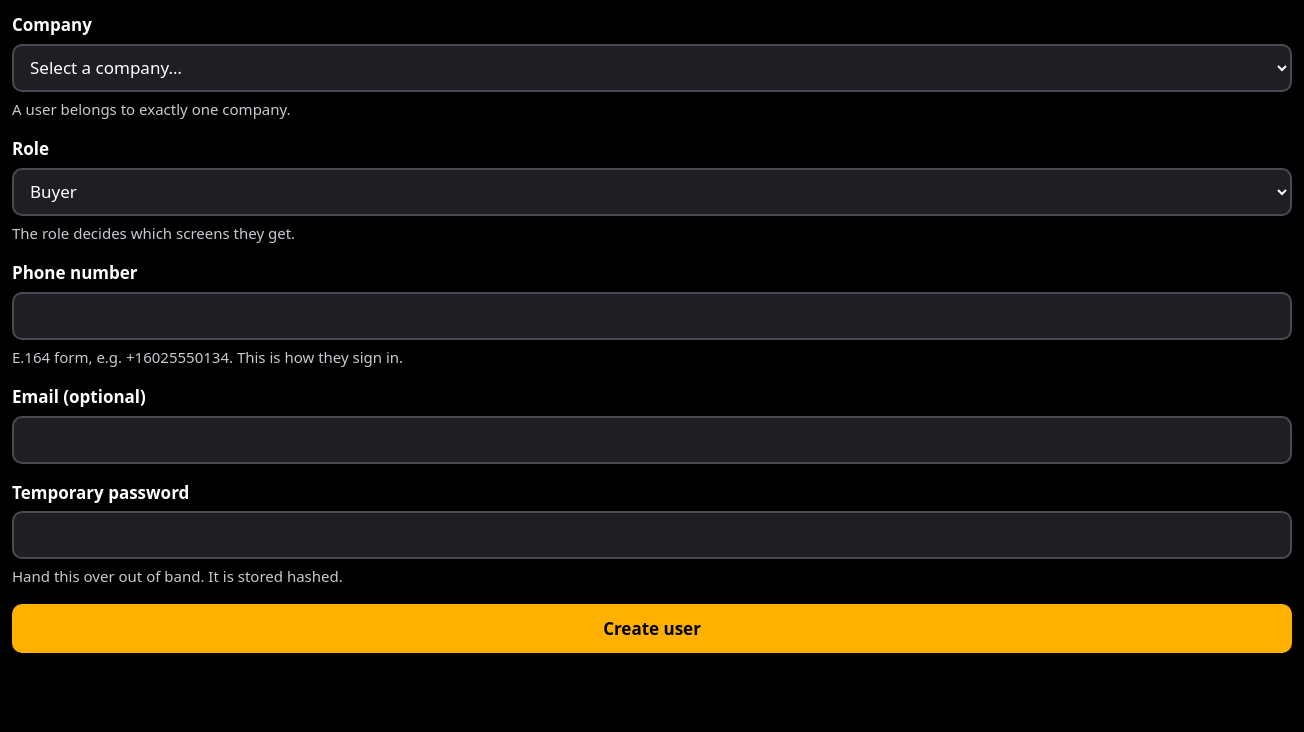
Test case: AdminUsers (Requirements 1.3-1.7) › offers every company and role on one form and posts the typed seat
The image size is (1304, 732).
# Requirement 1.3 — a user belongs to exactly one company, picked here.
Select "Buckeye Diesel" in the dropdown labelled "Company" at [652, 68], box top-left (12, 44), bottom-right (1292, 92)
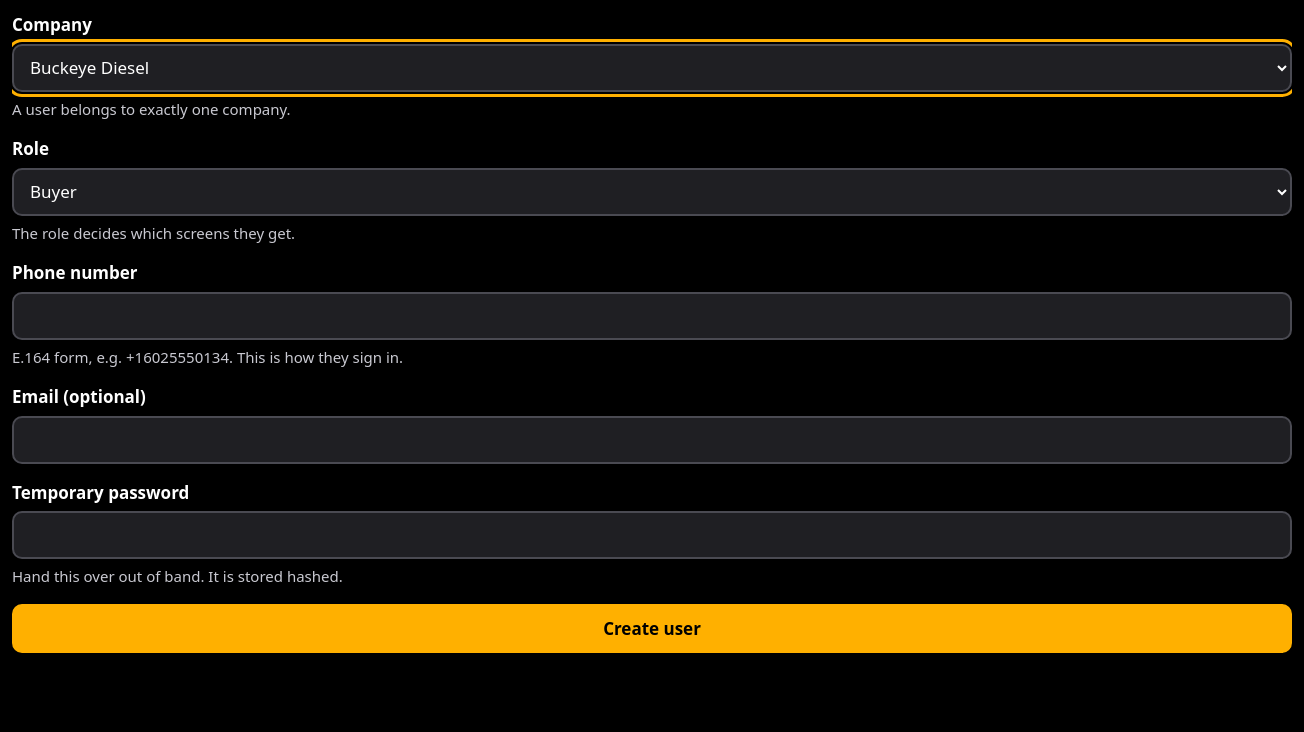
# Requirement 1.4 — exactly one role.
Select "Supplier" in the dropdown labelled "Role" at [652, 192], box top-left (12, 168), bottom-right (1292, 216)
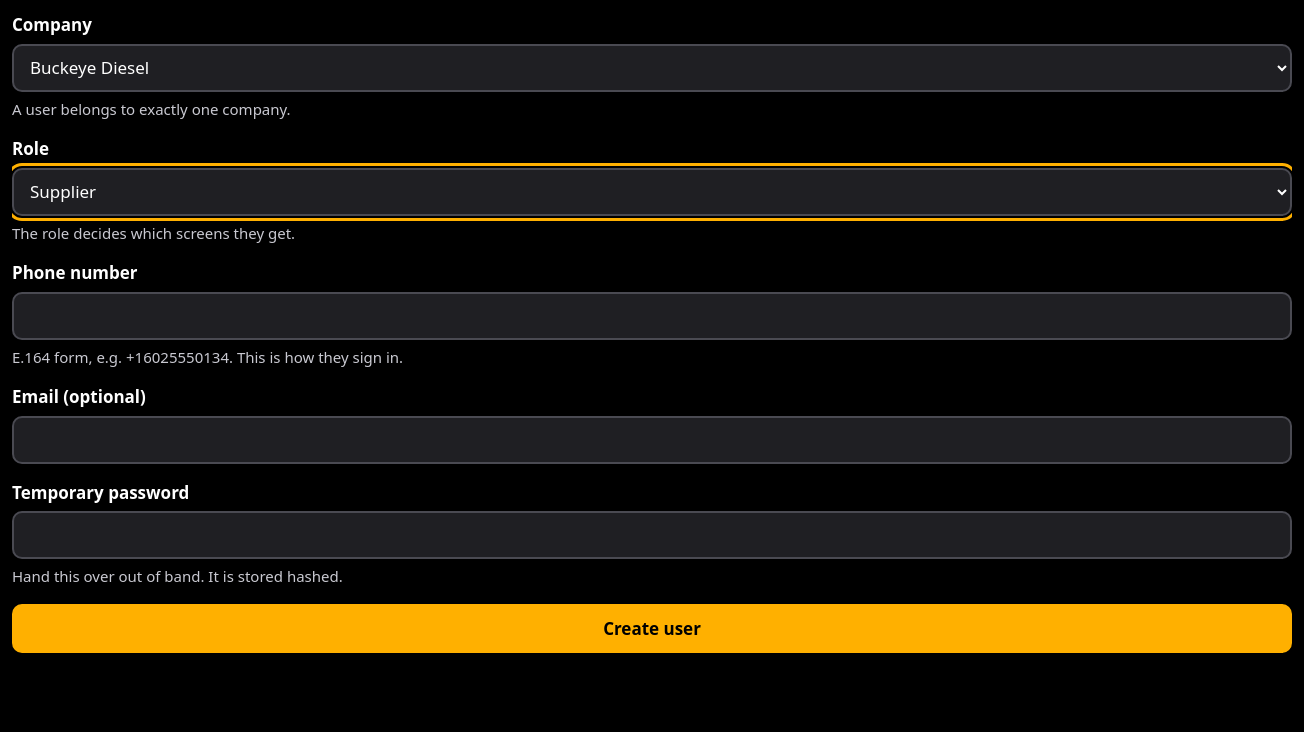
# Requirements 1.5, 1.7 — phone required, email optional (left blank).
Type " +16025550144 " into the field labelled "Phone number" at [652, 316], box top-left (12, 292), bottom-right (1292, 340)
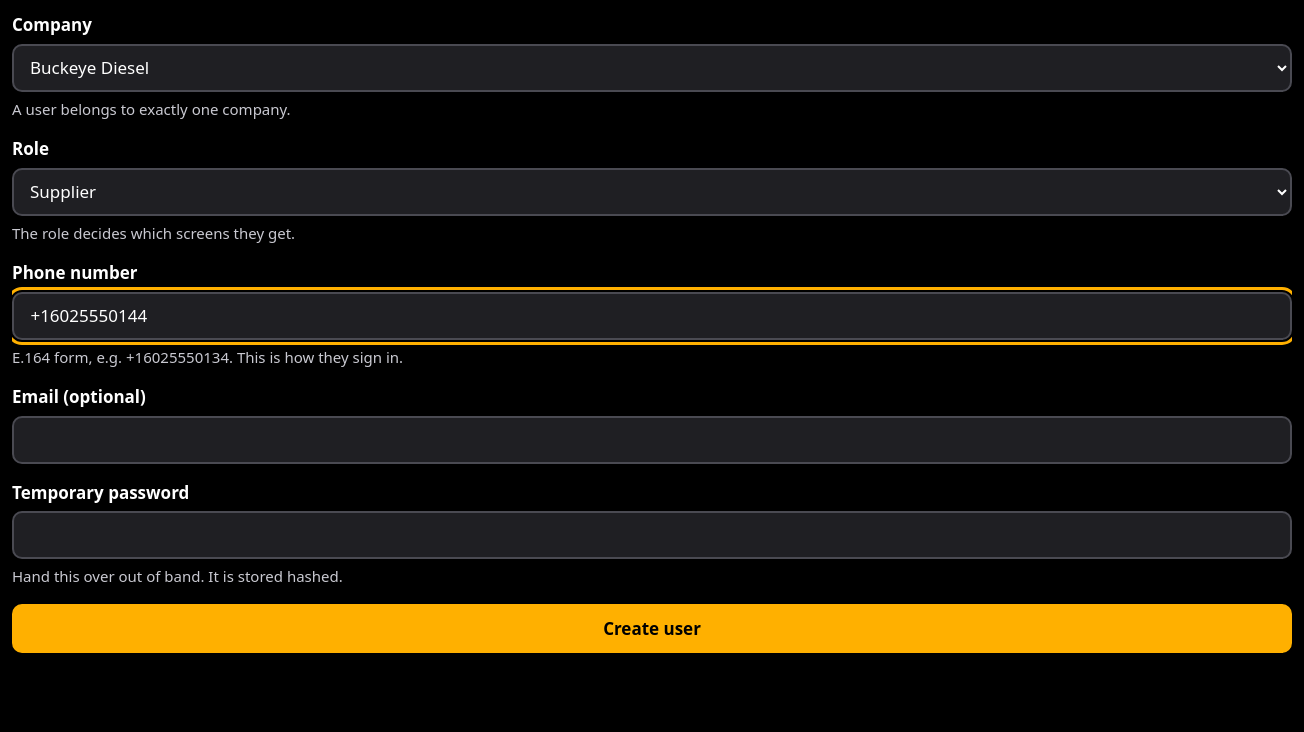
Type "correct horse battery staple" into the password field labelled "Temporary password" at [652, 535], box top-left (12, 511), bottom-right (1292, 559)
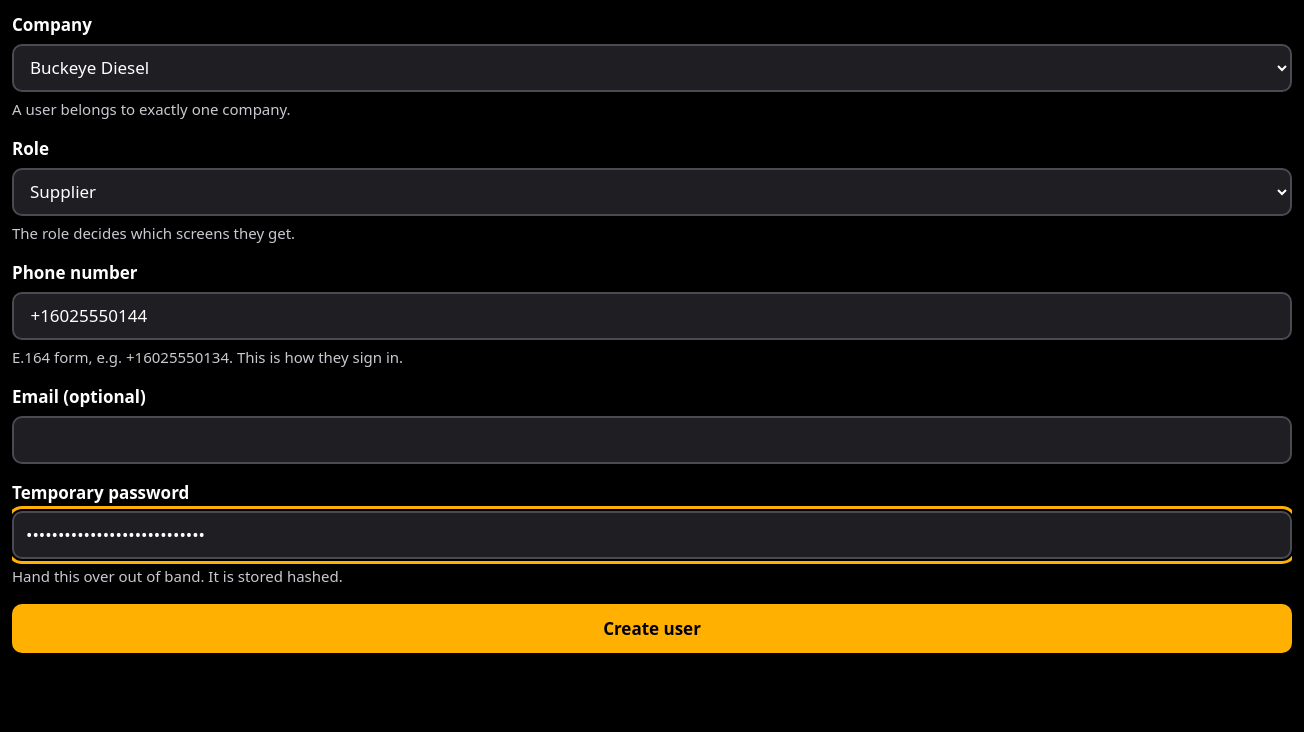
Click the button "Create user" at [652, 628], box top-left (12, 604), bottom-right (1292, 653)
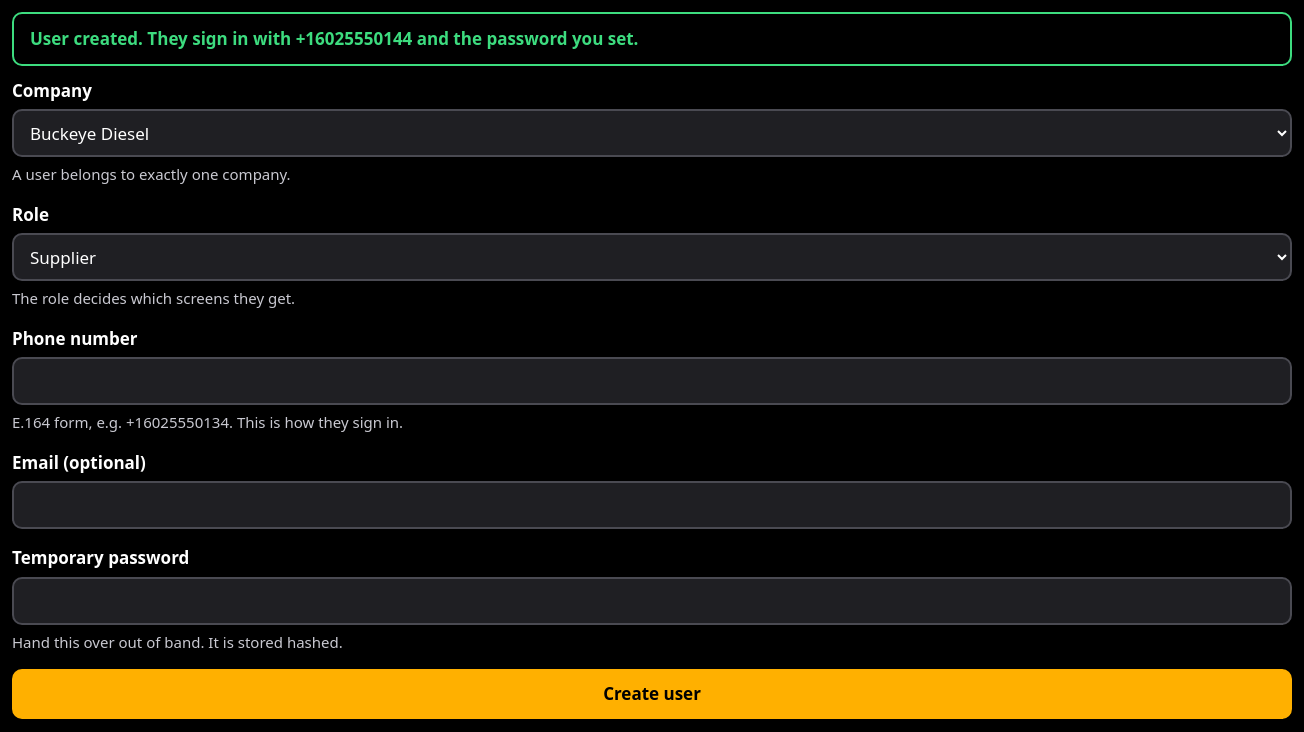
Now the message shows "+16025550144", box top-left (30, 27), bottom-right (638, 50)
